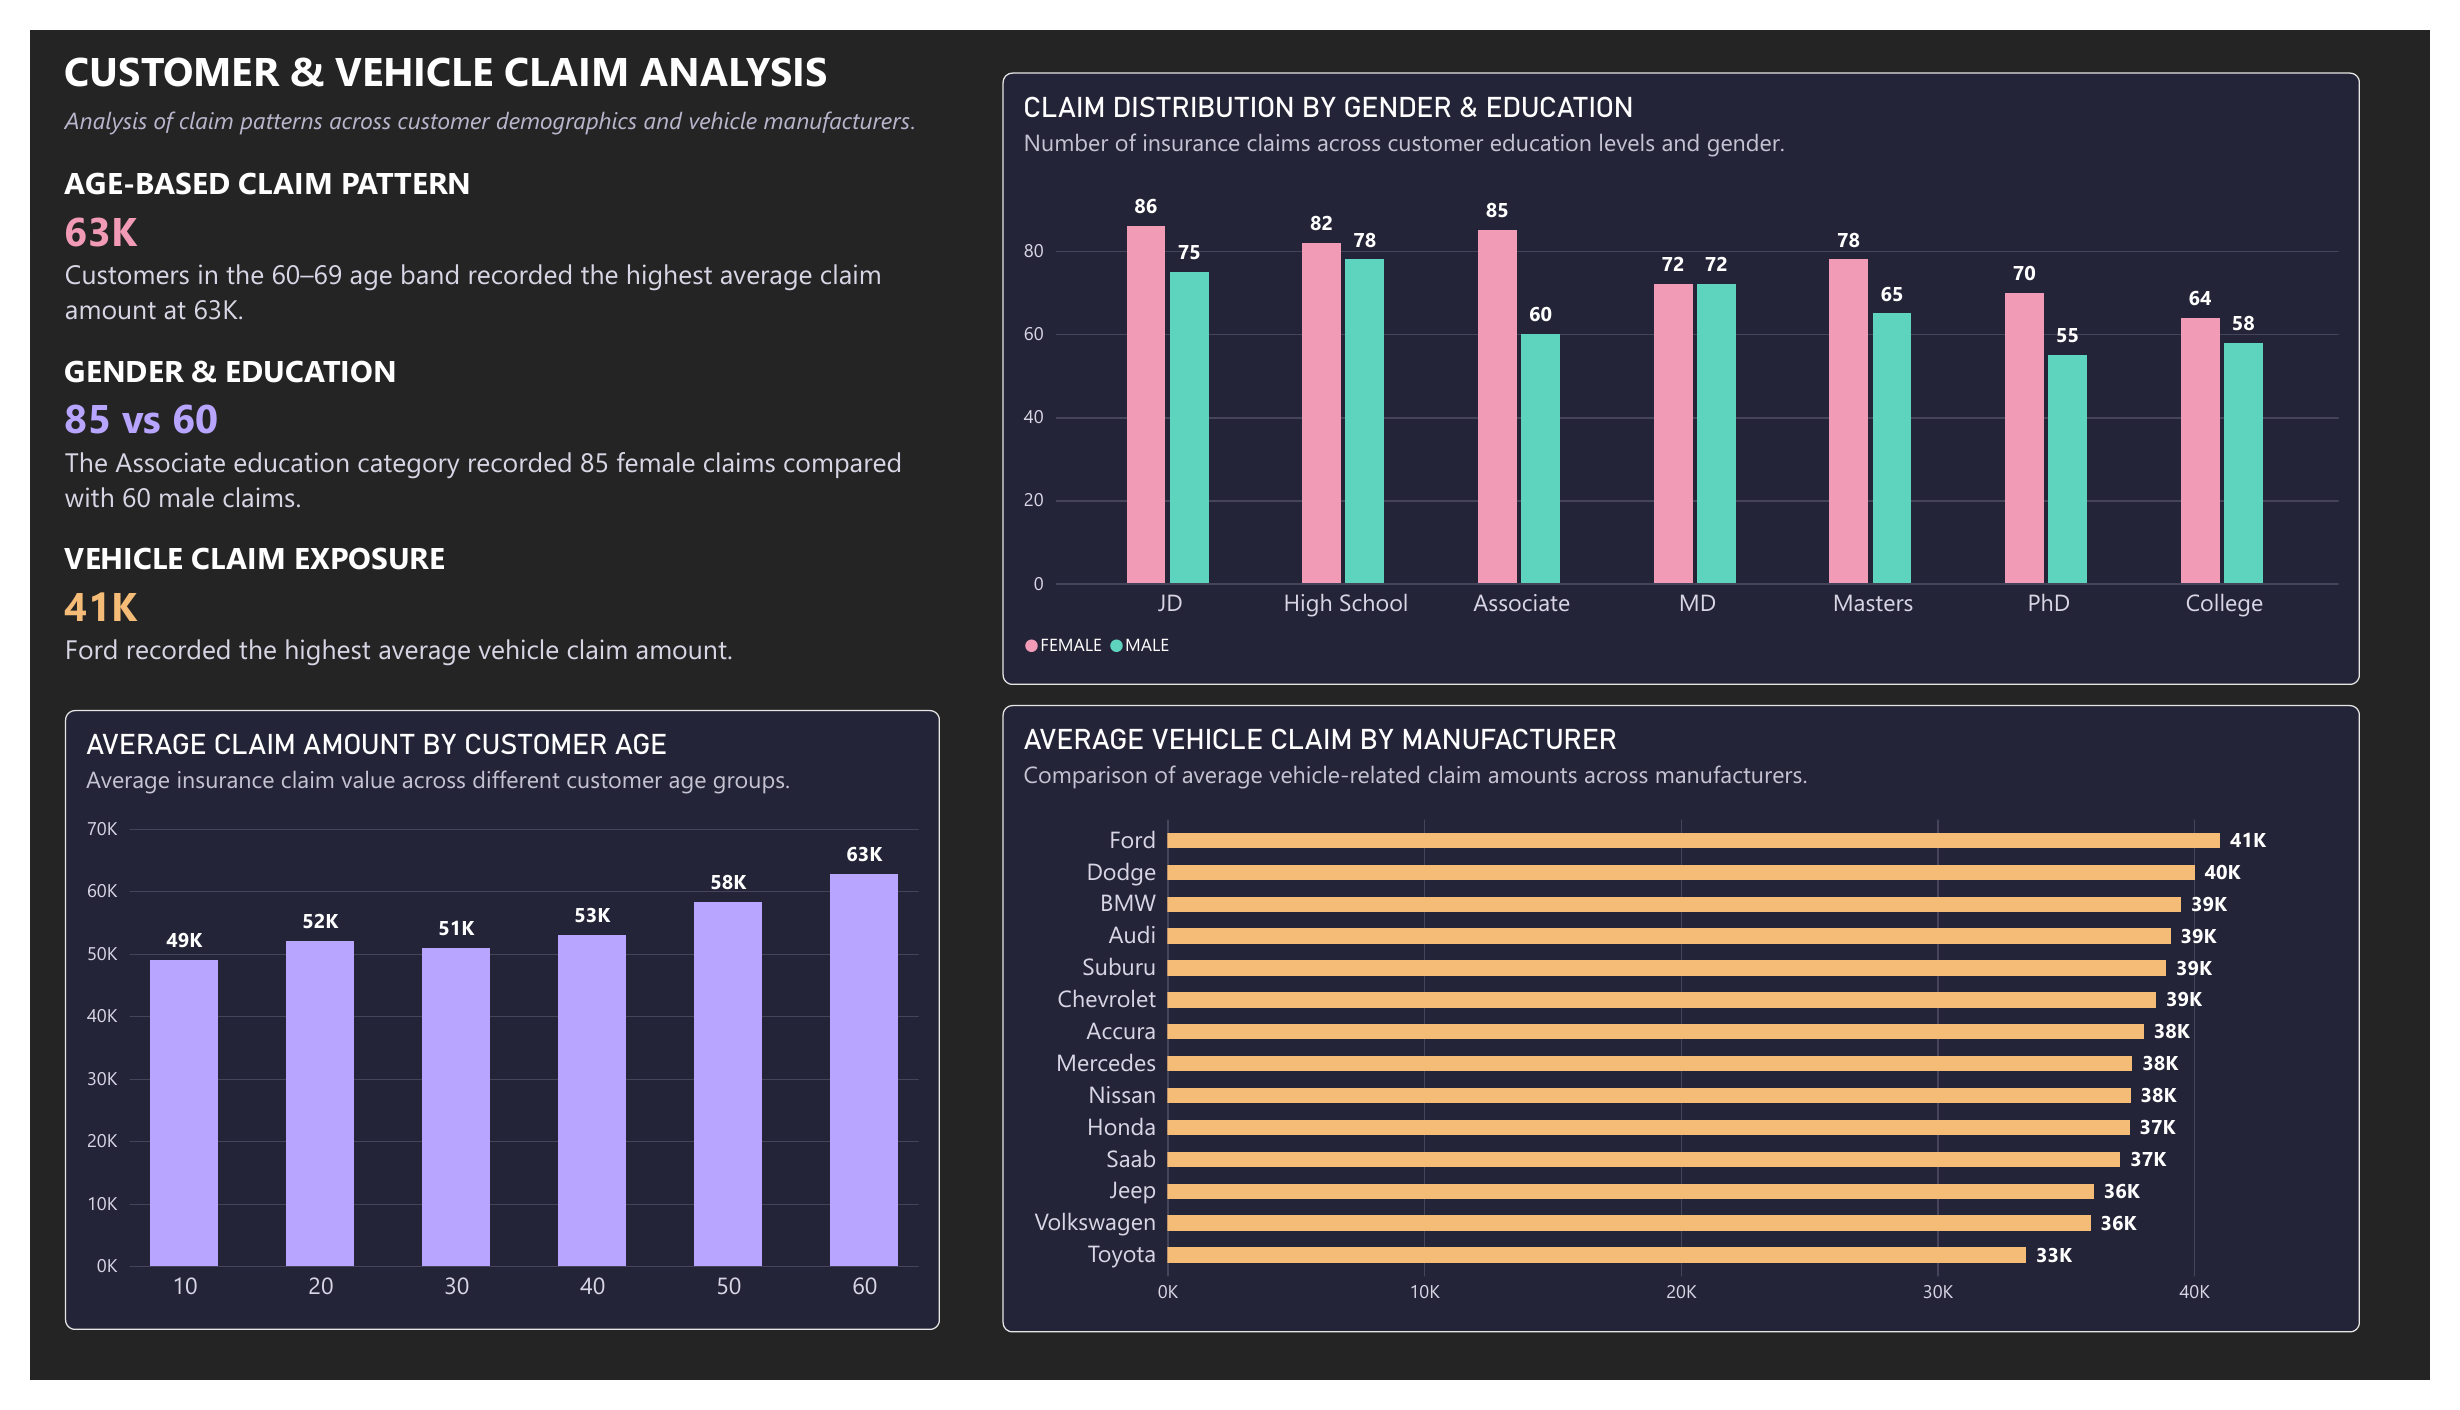

This screenshot's page, from the dashboard's own definition file:
{"tool":"powerbi","page":{"name":"CUSTOMER & VEHICLE CLAIM ANALYSIS","canvas":[1920,1080],"ordinal":2},"visuals":[{"type":"clusteredColumnChart","title":"AVERAGE CLAIM AMOUNT BY CUSTOMER AGE","fields":{"Category":["insurance_claims.age (bins)"],"Y":["insurance_claims.Avg Claim Amount"]},"box":[28,544,700,496],"z":0},{"type":"clusteredColumnChart","title":"CLAIM DISTRIBUTION BY GENDER & EDUCATION","fields":{"Category":["insurance_claims.insured_education_level"],"Series":["insurance_claims.insured_sex"],"Y":["CountNonNull(insurance_claims.policy_number)"]},"box":[778,34,1086,490],"z":1000},{"type":"clusteredBarChart","title":"AVERAGE VEHICLE CLAIM BY MANUFACTURER","fields":{"Category":["insurance_claims.auto_make"],"Y":["insurance_claims.Avg Vehicle Claim"]},"box":[778,540,1086,502],"z":2000},{"type":"textbox","box":[28,10,700,50],"z":3000},{"type":"textbox","box":[28,106,714,418],"z":4000},{"type":"textbox","box":[28,60,730,36],"z":5000}]}

Visuals, with their boxes in screenshot pixels (x1, y1, x2, y2), scaled from the page's 1920x1080 canvas onto the 2460x1410 screenshot:
"AVERAGE CLAIM AMOUNT BY CUSTOMER AGE" clusteredColumnChart: x1=36, y1=710, x2=933, y2=1358
"CLAIM DISTRIBUTION BY GENDER & EDUCATION" clusteredColumnChart: x1=997, y1=44, x2=2388, y2=684
"AVERAGE VEHICLE CLAIM BY MANUFACTURER" clusteredBarChart: x1=997, y1=705, x2=2388, y2=1360
textbox: x1=36, y1=13, x2=933, y2=78
textbox: x1=36, y1=138, x2=951, y2=684
textbox: x1=36, y1=78, x2=971, y2=125
